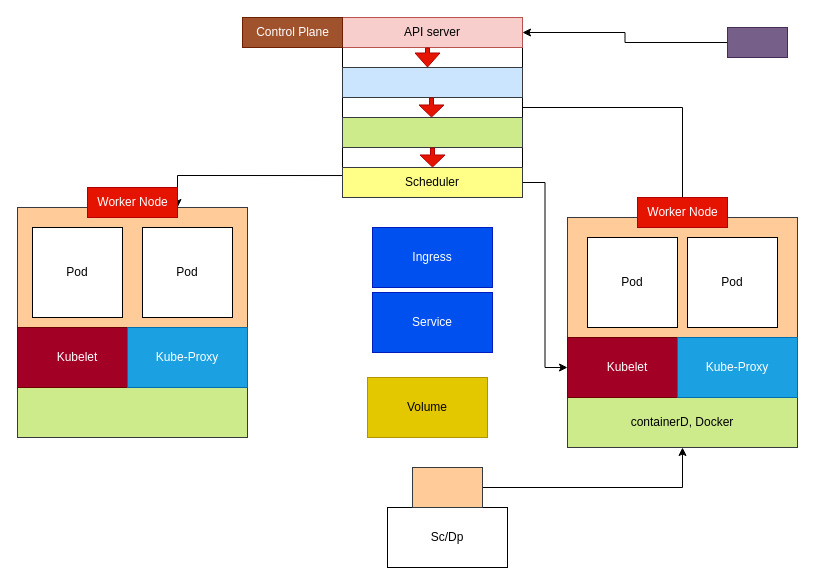
Some shapes in this 815 by 585 pixel diagram are drawn without their labels. Each missing label, with the box of its shape:
Controler Manager: (342, 116, 522, 148)
CRI (Docker, ContainerD: (16, 386, 248, 438)
Docker: (412, 466, 482, 508)
ETCD: (342, 66, 522, 98)
Kubectl: (726, 26, 788, 58)
